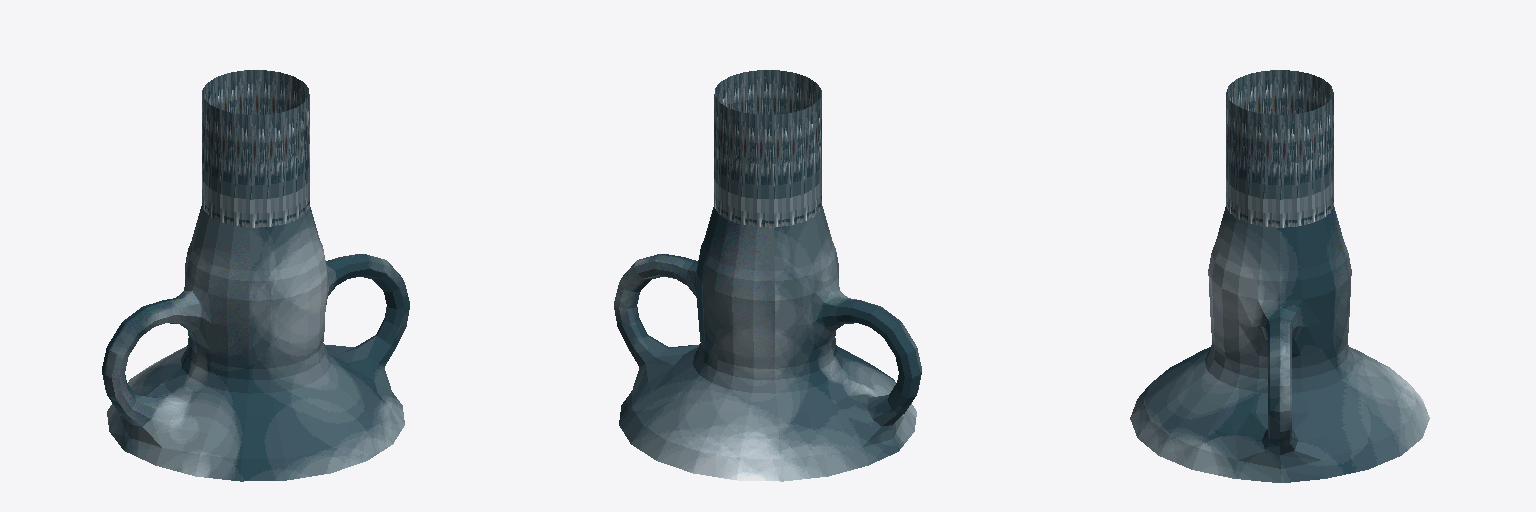
3 renders of one model, left to right at view 1: azimuth 30°, elevation 25°; view 2: azimuth 150°, elevation 25°; view 3: azimuth 270°, elevation 25°, orthographic.
Parts seen in each view (by area): view 1: glassmesh1; view 2: glassmesh1; view 3: glassmesh1.
Part boxes in pixels (bbox=[...]): glassmesh1: bbox=[102, 70, 409, 481]; glassmesh1: bbox=[614, 70, 921, 481]; glassmesh1: bbox=[1130, 70, 1429, 482].
Bounding box in the file's own units: 0.6393 × 0.6552 × 0.5449.
Materials: 1 (1 with a texture image).